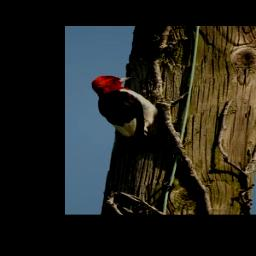Woodpecker: (90, 75, 175, 156)
